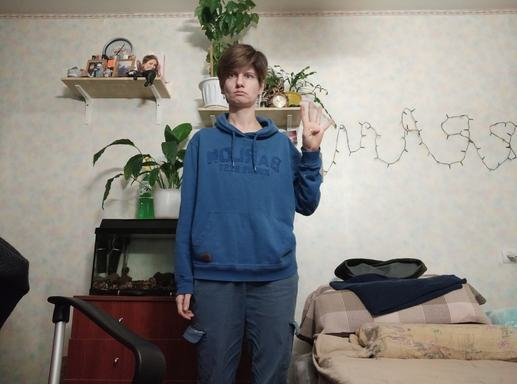four: (297, 101, 334, 152)
